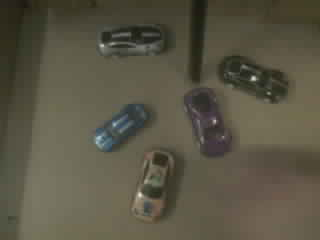Car: (184, 87, 230, 156), (220, 56, 287, 102), (132, 151, 173, 220), (96, 104, 147, 151), (98, 24, 164, 55)
